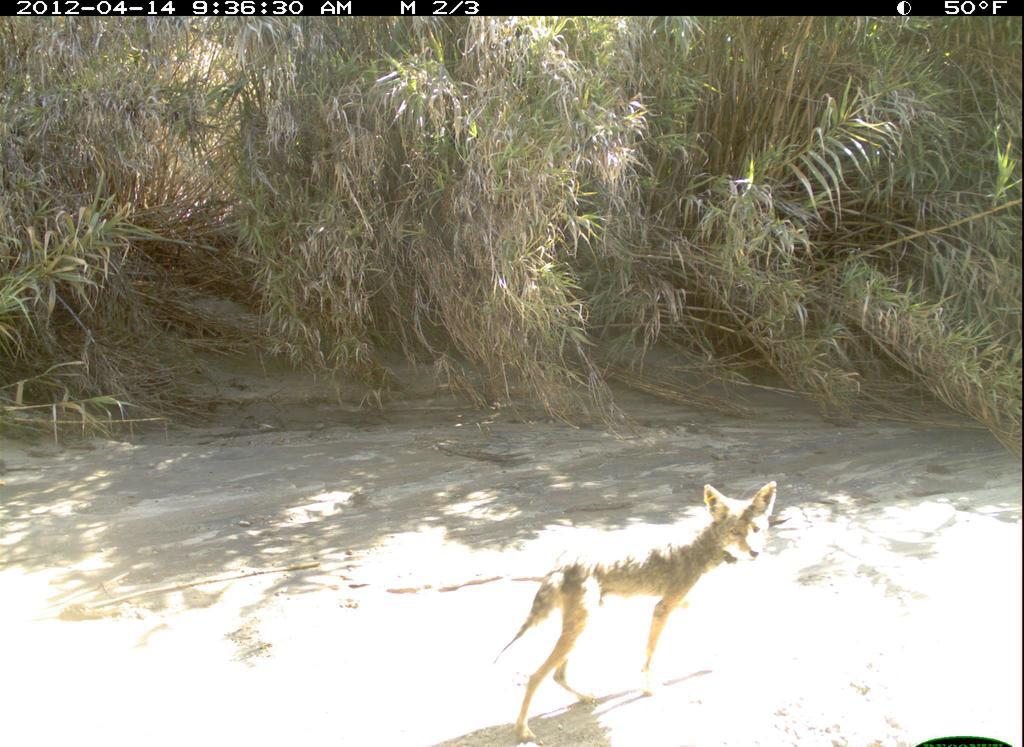coyote: (497, 479, 777, 745)
